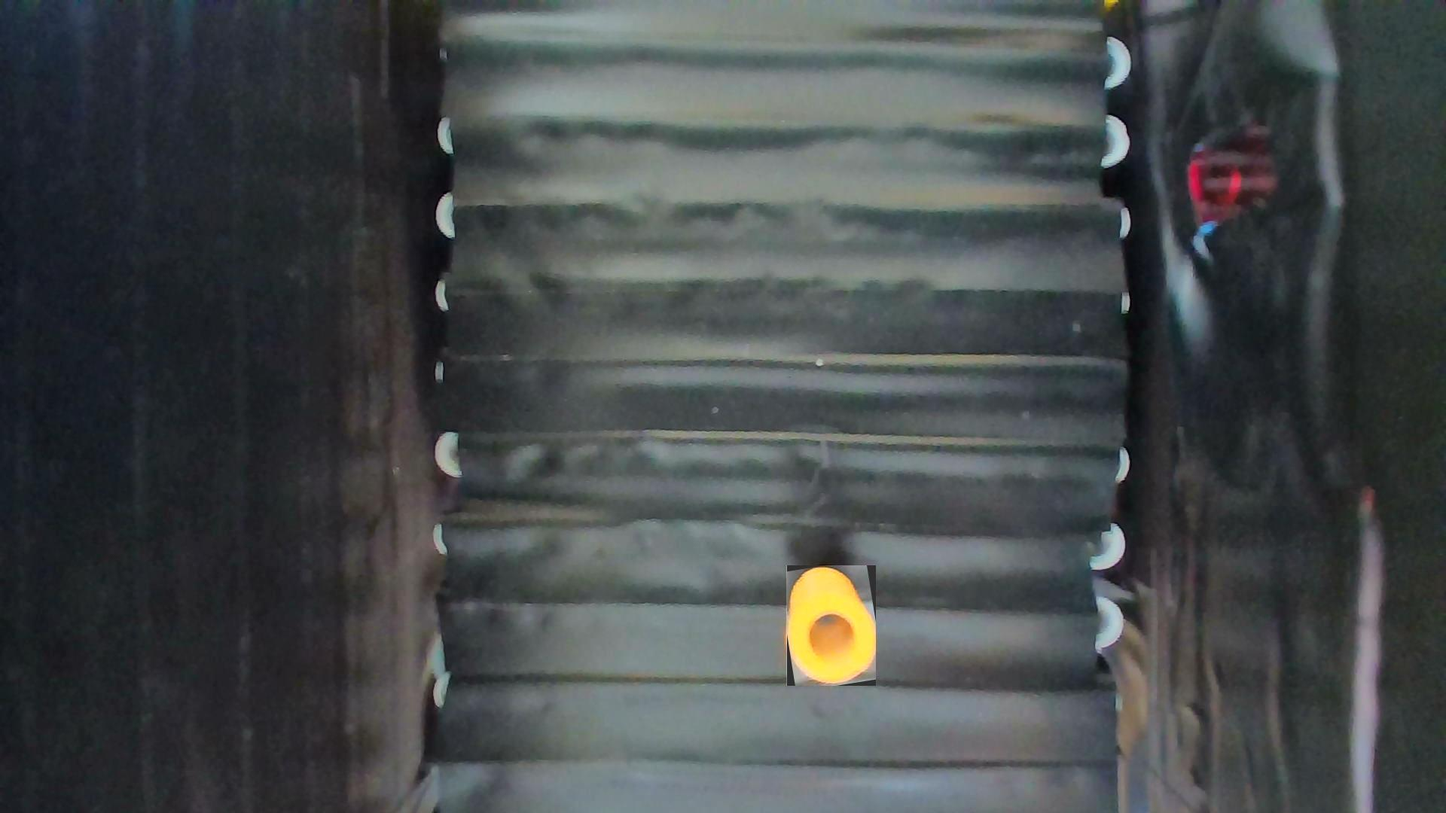spring: (786, 565, 875, 686)
